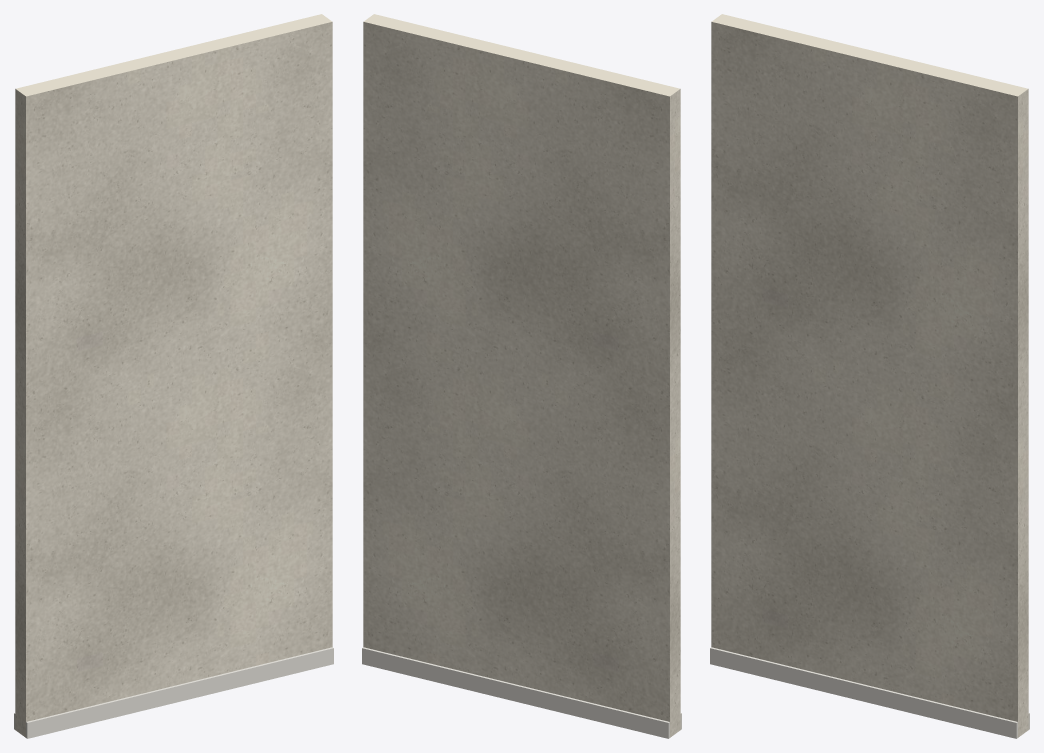
Rendered from interior_wall_plain.glb.
The picture shows the model from 3 angles, left to right: view 1: azimuth 30°, elevation 25°; view 2: azimuth 150°, elevation 25°; view 3: azimuth 330°, elevation 25°; orthographic projection.
Parts seen in each view (by area): view 1: interior_wall_plain_plaster, interior_wall_plain_trim; view 2: interior_wall_plain_plaster, interior_wall_plain_trim; view 3: interior_wall_plain_plaster, interior_wall_plain_trim.
Boxes of the visible parts, x1,y1,x2,y2 form: interior_wall_plain_plaster: [15, 14, 332, 737]; interior_wall_plain_trim: [14, 647, 333, 738]; interior_wall_plain_plaster: [363, 14, 680, 737]; interior_wall_plain_trim: [362, 647, 681, 738]; interior_wall_plain_plaster: [711, 14, 1028, 737]; interior_wall_plain_trim: [710, 647, 1029, 738].
Bounding box in the file's own units: 2 × 4 × 0.15.
Materials: 2 (1 with a texture image).
